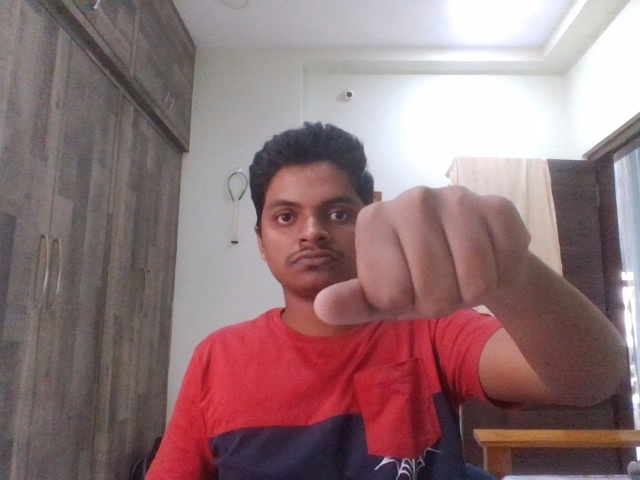Yes: (265, 163, 578, 358)
